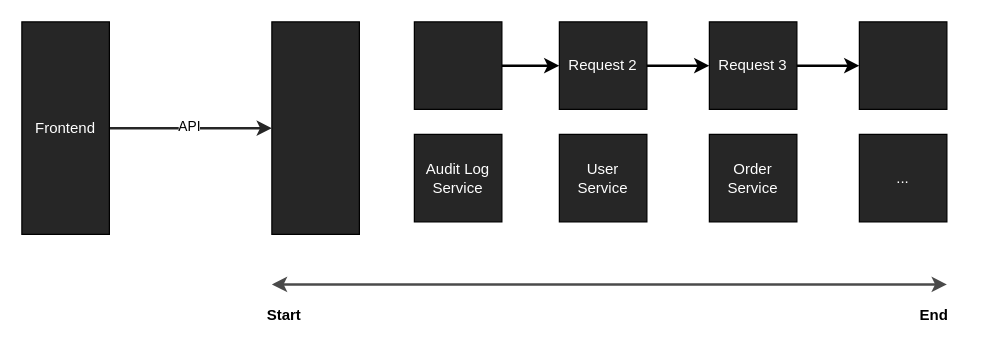
Some shapes in this 994 by 356 pixel diagram are drawn without their labels. Here are the shapes that lost their labels. From the top down, the centre of each, then its label:
point (457, 65): Request 1
point (902, 65): Request N
point (315, 127): Backend
